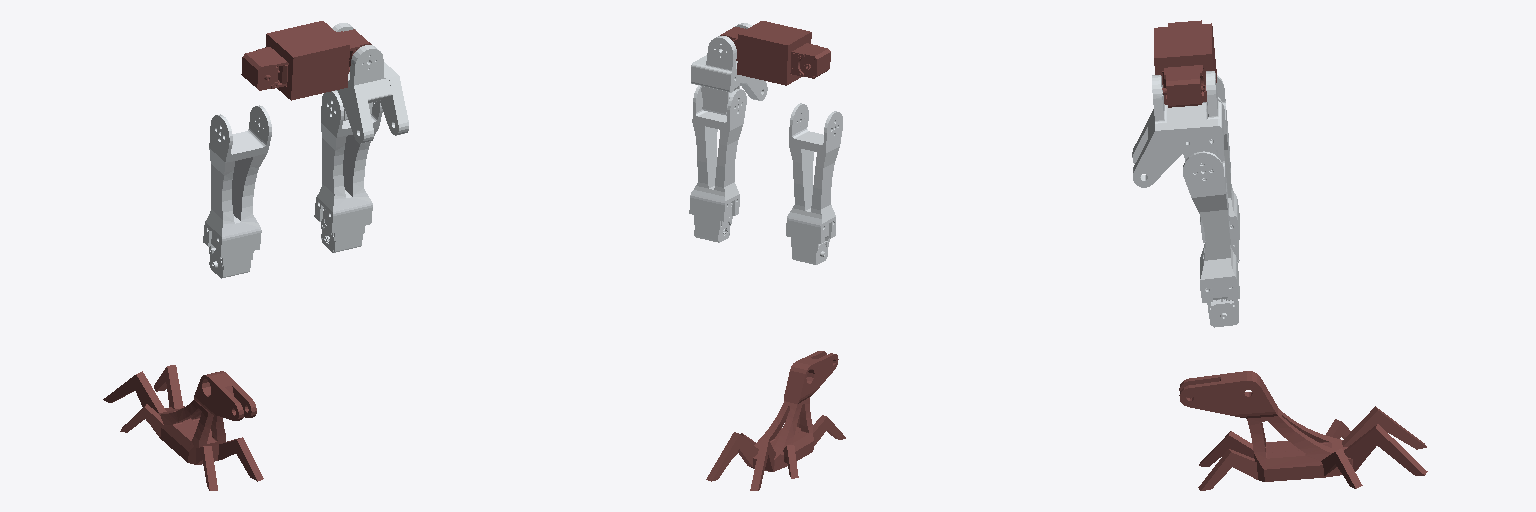
The robot description file, URDF, robot "Grielegs":
<?xml version="1.0" encoding="utf-8"?>
<!-- This URDF was automatically created by SolidWorks to URDF Exporter! Originally created by [author] ([email redacted]) 
     Commit Version: 1.6.0-4-g7f85cfe  Build Version: 1.6.7995.38578
     For more information, please see http://wiki.ros.org/sw_urdf_exporter -->
<robot
  name="Grielegs">
  <link
    name="base_link">
    <inertial>
      <origin
        xyz="0.20863304193815 0.0692641832716312 0.0477667457964067"
        rpy="0 0 0" />
      <mass
        value="1.03430056883378" />
      <inertia
        ixx="0.000426202931707901"
        ixy="-6.37572571128742E-08"
        ixz="7.59328755496436E-07"
        iyy="0.000441208001518973"
        iyz="-3.35829294154745E-06"
        izz="0.000480922227947212" />
    </inertial>
    <visual>
      <origin
        xyz="0 0 0"
        rpy="0 0 0" />
      <geometry>
        <mesh
          filename="package://Grielegs/meshes/base_link.STL" />
      </geometry>
      <material
        name="">
        <color
          rgba="0.537254901960784 0.349019607843137 0.337254901960784 1" />
      </material>
    </visual>
    <collision>
      <origin
        xyz="0 0 0"
        rpy="0 0 0" />
      <geometry>
        <mesh
          filename="package://Grielegs/meshes/base_link.STL" />
      </geometry>
    </collision>
  </link>
  <link
    name="Rhip">
    <inertial>
      <origin
        xyz="-0.00156619964153443 -0.00354518831498801 0.0180693540404457"
        rpy="0 0 0" />
      <mass
        value="0.791055479753895" />
      <inertia
        ixx="0.00058106981703294"
        ixy="3.12546764390219E-05"
        ixz="-1.06166100466884E-05"
        iyy="0.000520936539769187"
        iyz="0.000131765521291055"
        izz="0.000403166157033527" />
    </inertial>
    <visual>
      <origin
        xyz="0 0 0"
        rpy="0 0 0" />
      <geometry>
        <mesh
          filename="package://Grielegs/meshes/Rhip.STL" />
      </geometry>
      <material
        name="">
        <color
          rgba="0.894117647058823 0.913725490196078 0.929411764705882 1" />
      </material>
    </visual>
    <collision>
      <origin
        xyz="0 0 0"
        rpy="0 0 0" />
      <geometry>
        <mesh
          filename="package://Grielegs/meshes/Rhip.STL" />
      </geometry>
    </collision>
  </link>
  <joint
    name="Rhipjoint"
    type="revolute">
    <origin
      xyz="0.26723 0.08117 0.019436"
      rpy="1.6546 0.013805 0.0011592" />
    <parent
      link="base_link" />
    <child
      link="Rhip" />
    <axis
      xyz="0 0 -1" />
    <limit
      lower="0"
      upper="0"
      effort="0"
      velocity="0" />
  </joint>
  <link
    name="Rthigh">
    <inertial>
      <origin
        xyz="-0.000302367218254385 -0.0627833596751283 -0.00175255894390426"
        rpy="0 0 0" />
      <mass
        value="0.712335276121289" />
      <inertia
        ixx="0.000983959306971487"
        ixy="-4.25120946653979E-06"
        ixz="-3.61672019322827E-07"
        iyy="0.000181029360807066"
        iyz="1.04990863006088E-05"
        izz="0.00106202447529497" />
    </inertial>
    <visual>
      <origin
        xyz="0 0 0"
        rpy="0 0 0" />
      <geometry>
        <mesh
          filename="package://Grielegs/meshes/Rthigh.STL" />
      </geometry>
      <material
        name="">
        <color
          rgba="0.894117647058823 0.913725490196078 0.929411764705882 1" />
      </material>
    </visual>
    <collision>
      <origin
        xyz="0 0 0"
        rpy="0 0 0" />
      <geometry>
        <mesh
          filename="package://Grielegs/meshes/Rthigh.STL" />
      </geometry>
    </collision>
  </link>
  <joint
    name="Rthighjoint"
    type="revolute">
    <origin
      xyz="-0.001 -0.035 -0.0005"
      rpy="0.037192 0 0" />
    <parent
      link="Rhip" />
    <child
      link="Rthigh" />
    <axis
      xyz="-1 0 0" />
    <limit
      lower="0"
      upper="0"
      effort="0"
      velocity="0" />
  </joint>
  <link
    name="Rshank">
    <inertial>
      <origin
        xyz="3.25949156554373E-10 -0.0634251787082964 0.0012180632480078"
        rpy="0 0 0" />
      <mass
        value="0.971159126419194" />
      <inertia
        ixx="0.00143380464999894"
        ixy="7.7522260319657E-12"
        ixz="2.67658647169822E-11"
        iyy="0.000326466892537684"
        iyz="-1.21406347145086E-05"
        izz="0.00160808166417937" />
    </inertial>
    <visual>
      <origin
        xyz="0 0 0"
        rpy="0 0 0" />
      <geometry>
        <mesh
          filename="package://Grielegs/meshes/Rshank.STL" />
      </geometry>
      <material
        name="">
        <color
          rgba="0.894117647058823 0.913725490196078 0.929411764705882 1" />
      </material>
    </visual>
    <collision>
      <origin
        xyz="0 0 0"
        rpy="0 0 0" />
      <geometry>
        <mesh
          filename="package://Grielegs/meshes/Rshank.STL" />
      </geometry>
    </collision>
  </link>
  <joint
    name="Rshankjoint"
    type="revolute">
    <origin
      xyz="0.0019 -0.14107 -0.0005"
      rpy="0.034967 0 0" />
    <parent
      link="Rthigh" />
    <child
      link="Rshank" />
    <axis
      xyz="-1 0 0" />
    <limit
      lower="0"
      upper="0"
      effort="0"
      velocity="0" />
  </joint>
  <link
    name="Rfeet">
    <inertial>
      <origin
        xyz="-5.23888605068468E-05 -0.0514905085699374 0.0322028329707554"
        rpy="0 0 0" />
      <mass
        value="1.24875214793965" />
      <inertia
        ixx="0.00317691490621487"
        ixy="3.36872463948788E-06"
        ixz="-2.10664133938005E-06"
        iyy="0.00250470632605789"
        iyz="0.000755030566721444"
        izz="0.00108653855364612" />
    </inertial>
    <visual>
      <origin
        xyz="0 0 0"
        rpy="0 0 0" />
      <geometry>
        <mesh
          filename="package://Grielegs/meshes/Rfeet.STL" />
      </geometry>
      <material
        name="">
        <color
          rgba="0.537254901960784 0.349019607843137 0.337254901960784 1" />
      </material>
    </visual>
    <collision>
      <origin
        xyz="0 0 0"
        rpy="0 0 0" />
      <geometry>
        <mesh
          filename="package://Grielegs/meshes/Rfeet.STL" />
      </geometry>
    </collision>
  </link>
  <joint
    name="Rfeetjoint"
    type="revolute">
    <origin
      xyz="0.001 -0.135 0"
      rpy="-3.0694 0 3.1416" />
    <parent
      link="Rshank" />
    <child
      link="Rfeet" />
    <axis
      xyz="-1 0 0" />
    <limit
      lower="0"
      upper="0"
      effort="0"
      velocity="0" />
  </joint>
  <link
    name="Lhip">
    <inertial>
      <origin
        xyz="-0.00151181932509861 -0.00354518831403739 -0.0180692667421762"
        rpy="0 0 0" />
      <mass
        value="0.791055478745183" />
      <inertia
        ixx="0.000581069816906898"
        ixy="3.12546765684049E-05"
        ixz="1.06166689786517E-05"
        iyy="0.000520936539760236"
        iyz="-0.000131765341798063"
        izz="0.000403166157564119" />
    </inertial>
    <visual>
      <origin
        xyz="0 0 0"
        rpy="0 0 0" />
      <geometry>
        <mesh
          filename="package://Grielegs/meshes/Lhip.STL" />
      </geometry>
      <material
        name="">
        <color
          rgba="0.894117647058823 0.913725490196078 0.929411764705882 1" />
      </material>
    </visual>
    <collision>
      <origin
        xyz="0 0 0"
        rpy="0 0 0" />
      <geometry>
        <mesh
          filename="package://Grielegs/meshes/Lhip.STL" />
      </geometry>
    </collision>
  </link>
  <joint
    name="Lhipjoint"
    type="revolute">
    <origin
      xyz="0.149245088211636 0.0817810104475846 0.0211280236738303"
      rpy="1.48701953064696 -0.0138053758789537 -3.14043340733853" />
    <parent
      link="base_link" />
    <child
      link="Lhip" />
    <axis
      xyz="0 0 1" />
    <limit
      lower="0"
      upper="0"
      effort="0"
      velocity="0" />
  </joint>
  <link
    name="Lthigh">
    <inertial>
      <origin
        xyz="-0.000320301621398483 -0.0627833596598406 -0.00172830605880615"
        rpy="0 0 0" />
      <mass
        value="0.71233527597287" />
      <inertia
        ixx="0.000983959306948011"
        ixy="-4.25717499980411E-06"
        ixz="-3.61671998533455E-07"
        iyy="0.000181029360787906"
        iyz="1.04992660678199E-05"
        izz="0.00106202447528358" />
    </inertial>
    <visual>
      <origin
        xyz="0 0 0"
        rpy="0 0 0" />
      <geometry>
        <mesh
          filename="package://Grielegs/meshes/Lthigh.STL" />
      </geometry>
      <material
        name="">
        <color
          rgba="0.894117647058823 0.913725490196078 0.929411764705882 1" />
      </material>
    </visual>
    <collision>
      <origin
        xyz="0 0 0"
        rpy="0 0 0" />
      <geometry>
        <mesh
          filename="package://Grielegs/meshes/Lthigh.STL" />
      </geometry>
    </collision>
  </link>
  <joint
    name="Lthighjoint"
    type="revolute">
    <origin
      xyz="0.00025 -0.035 0.0005"
      rpy="-3.1044 0 -3.1416" />
    <parent
      link="Lhip" />
    <child
      link="Lthigh" />
    <axis
      xyz="-1 0 0" />
    <limit
      lower="0"
      upper="0"
      effort="0"
      velocity="0" />
  </joint>
  <link
    name="Lshank">
    <inertial>
      <origin
        xyz="3.25949184309948E-10 -0.0634251787082964 0.00121806324800777"
        rpy="0 0 0" />
      <mass
        value="0.971159126419197" />
      <inertia
        ixx="0.00143380464999894"
        ixy="7.75222751735378E-12"
        ixz="2.67658650467957E-11"
        iyy="0.000326466892537684"
        iyz="-1.21406347145086E-05"
        izz="0.00160808166417937" />
    </inertial>
    <visual>
      <origin
        xyz="0 0 0"
        rpy="0 0 0" />
      <geometry>
        <mesh
          filename="package://Grielegs/meshes/Lshank.STL" />
      </geometry>
      <material
        name="">
        <color
          rgba="0.894117647058823 0.913725490196078 0.929411764705882 1" />
      </material>
    </visual>
    <collision>
      <origin
        xyz="0 0 0"
        rpy="0 0 0" />
      <geometry>
        <mesh
          filename="package://Grielegs/meshes/Lshank.STL" />
      </geometry>
    </collision>
  </link>
  <joint
    name="Lshankjoint"
    type="revolute">
    <origin
      xyz="-0.0004 -0.14107 0"
      rpy="0.034967 0 0" />
    <parent
      link="Lthigh" />
    <child
      link="Lshank" />
    <axis
      xyz="1 0 0" />
    <limit
      lower="0"
      upper="0"
      effort="0"
      velocity="0" />
  </joint>
  <link
    name="Lfeet">
    <inertial>
      <origin
        xyz="-5.23888605066802E-05 -0.0514905085699376 0.0322028329707554"
        rpy="0 0 0" />
      <mass
        value="1.24875214793965" />
      <inertia
        ixx="0.00317691490621505"
        ixy="3.36872463948583E-06"
        ixz="-2.10664133938029E-06"
        iyy="0.00250470632605772"
        iyz="0.000755030566721423"
        izz="0.00108653855364647" />
    </inertial>
    <visual>
      <origin
        xyz="0 0 0"
        rpy="0 0 0" />
      <geometry>
        <mesh
          filename="package://Grielegs/meshes/Lfeet.STL" />
      </geometry>
      <material
        name="">
        <color
          rgba="0.537254901960784 0.349019607843137 0.337254901960784 1" />
      </material>
    </visual>
    <collision>
      <origin
        xyz="0 0 0"
        rpy="0 0 0" />
      <geometry>
        <mesh
          filename="package://Grielegs/meshes/Lfeet.STL" />
      </geometry>
    </collision>
  </link>
  <joint
    name="Lfeetjoint"
    type="revolute">
    <origin
      xyz="-0.00100000000000003 -0.135 0"
      rpy="-3.06943379657217 0 -3.14159265358979" />
    <parent
      link="Lshank" />
    <child
      link="Lfeet" />
    <axis
      xyz="-1 0 0" />
    <limit
      lower="0"
      upper="0"
      effort="0"
      velocity="0" />
  </joint>
</robot>

--- Render facts (derived) ---
The picture shows the robot from 3 angles, left to right: view 1: azimuth 30°, elevation 25°; view 2: azimuth 150°, elevation 25°; view 3: azimuth 270°, elevation 25°; orthographic projection.
Robot: Grielegs — 9 links, 8 joints (8 revolute); root link base_link; default pose: all joints at 0.
Visible links, largest first — view 1: Lfeet, Lthigh, base_link, Rthigh, Rhip; view 2: Lfeet, Lthigh, Rthigh, base_link, Rhip; view 3: Lfeet, Rthigh, Rhip, base_link, Lthigh.
Boxes of the visible links, <box> form: Lfeet: <box>103,365,263,490</box>; Lthigh: <box>203,105,271,278</box>; base_link: <box>241,21,371,100</box>; Rthigh: <box>314,91,382,252</box>; Rhip: <box>332,23,408,143</box>; Lfeet: <box>706,351,845,490</box>; Lthigh: <box>786,103,842,264</box>; Rthigh: <box>689,85,746,242</box>; base_link: <box>720,21,830,85</box>; Rhip: <box>691,23,767,115</box>; Lfeet: <box>1179,371,1427,490</box>; Rthigh: <box>1183,148,1239,327</box>; Rhip: <box>1132,71,1223,187</box>; base_link: <box>1154,20,1216,107</box>; Lthigh: <box>1200,75,1239,262</box>.
Size in the robot's own frame: 0.1962 by 0.2514 by 0.4439 metres.
5 mesh visuals loaded from 9 distinct referenced files (5 binary STL); not drawn: 4 (reference not matched to a file when rendering).
